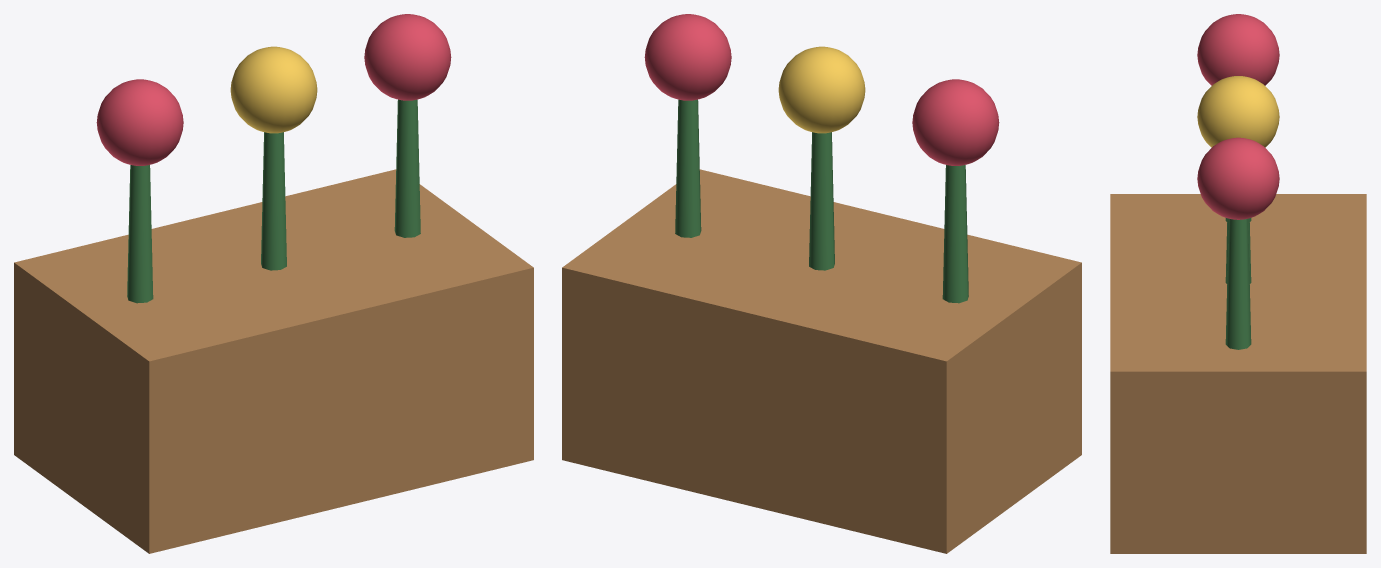
File: flower_planter.glb
3 renders of one model, left to right at view 1: azimuth 30°, elevation 25°; view 2: azimuth 150°, elevation 25°; view 3: azimuth 270°, elevation 25°, orthographic. The views are drawn at different scales.
Visible parts, largest first — view 1: pot, flower_1, flower_0, flower_2, stem_2, stem_0, stem_1; view 2: pot, flower_1, flower_0, flower_2, stem_2, stem_0, stem_1; view 3: pot, flower_2, flower_0, flower_1, stem_2.
Part boxes in pixels (x1=…): pot: x1=14, y1=169, x2=533, y2=553; flower_1: x1=230, y1=46, x2=317, y2=133; flower_0: x1=96, y1=79, x2=183, y2=165; flower_2: x1=364, y1=14, x2=451, y2=100; stem_2: x1=394, y1=99, x2=420, y2=237; stem_0: x1=127, y1=165, x2=153, y2=303; stem_1: x1=261, y1=132, x2=286, y2=270; pot: x1=562, y1=169, x2=1081, y2=553; flower_1: x1=778, y1=46, x2=865, y2=133; flower_0: x1=912, y1=79, x2=999, y2=165; flower_2: x1=644, y1=14, x2=731, y2=100; stem_2: x1=675, y1=99, x2=701, y2=237; stem_0: x1=942, y1=165, x2=968, y2=303; stem_1: x1=809, y1=132, x2=834, y2=270; pot: x1=1110, y1=194, x2=1366, y2=553; flower_2: x1=1197, y1=137, x2=1279, y2=219; flower_0: x1=1197, y1=14, x2=1279, y2=85; flower_1: x1=1197, y1=76, x2=1279, y2=147; stem_2: x1=1225, y1=218, x2=1251, y2=349.
Bounding box in the file's own units: 0.46 × 0.465 × 0.28.
